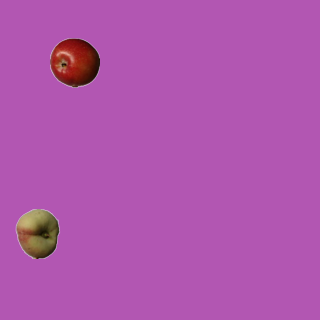Apple Braeburn: (49, 37, 99, 87)
Peach Flat: (12, 208, 62, 258)
